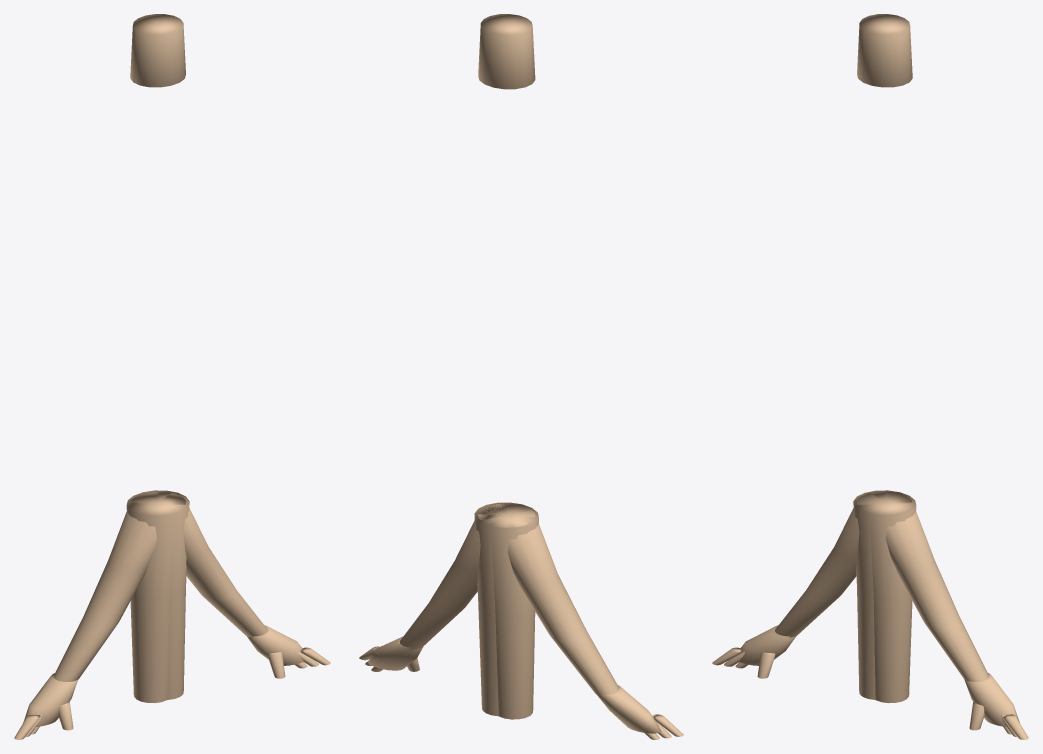
File: body.glb
3 views of the same model, side by side, from view 1: azimuth 30°, elevation 25°; view 2: azimuth 150°, elevation 25°; view 3: azimuth 330°, elevation 25° (orthographic). The views are drawn at different scales.
Parts seen in each view (by area): view 1: arm (×2), leg (×2), neck, palm (×2); view 2: arm (×2), leg (×2), neck, palm (×2); view 3: arm (×2), leg (×2), neck, palm (×2).
Boxes of the visible parts, x1,y1,x2,y2 form: arm (×2): (54,491,267,681); leg (×2): (126,490,189,703); neck: (130,14,185,87); palm (×2): (23,625,303,726); arm (×2): (400,504,619,695); leg (×2): (474,502,538,719); neck: (478,14,535,89); palm (×2): (368,636,661,733); arm (×2): (775,491,988,681); leg (×2): (853,490,916,703); neck: (857,14,912,87); palm (×2): (739,625,1019,726).
Bounding box in the file's own units: 1.27 × 2.57 × 0.235.
